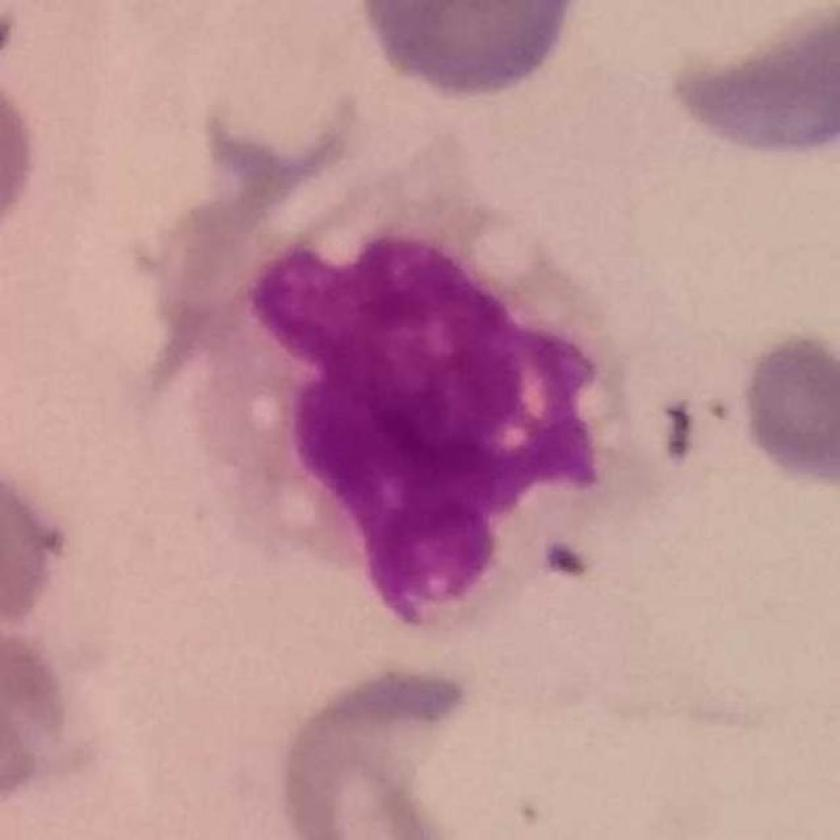monocyte: (134, 93, 685, 651)
